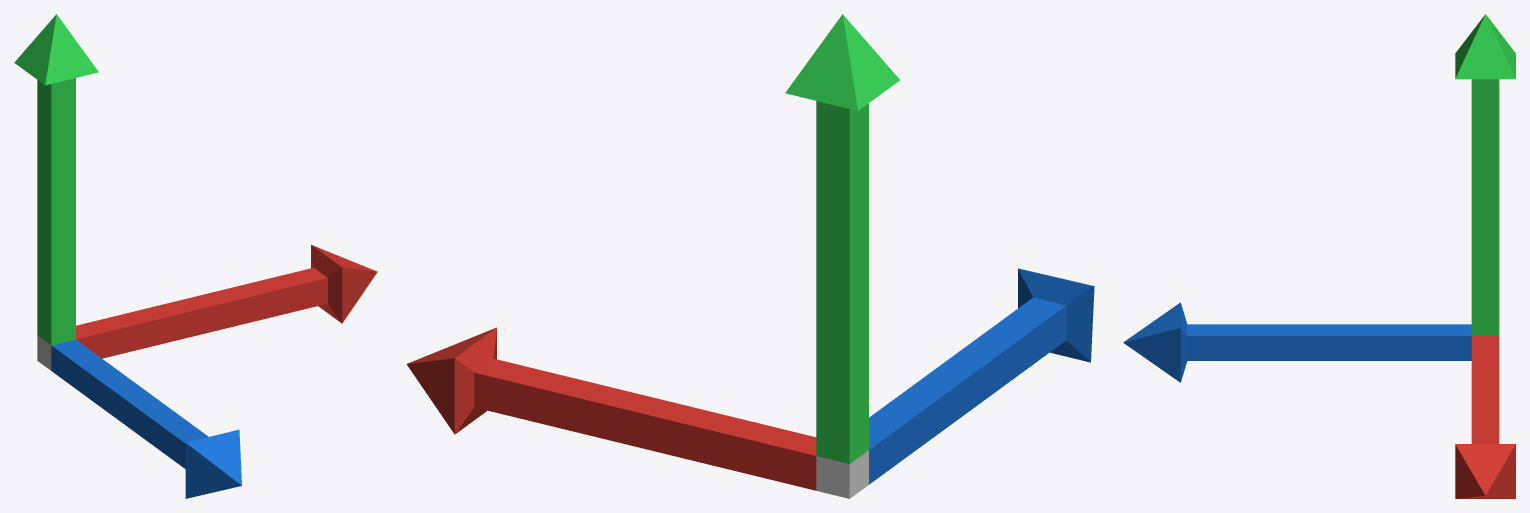
The model's file is axis.gltf.
3 views of the same model, side by side, from view 1: azimuth 30°, elevation 25°; view 2: azimuth 150°, elevation 25°; view 3: azimuth 270°, elevation 25° (orthographic). The views are drawn at different scales.
Parts seen in each view (by area): view 1: axis; view 2: axis; view 3: axis.
Part boxes in pixels (left/top/right/bottom): axis: left=14, top=14, right=377, bottom=498; axis: left=406, top=14, right=1094, bottom=498; axis: left=1123, top=14, right=1515, bottom=498.
Bounding box in the file's own units: 2.76 × 2.76 × 2.76.
